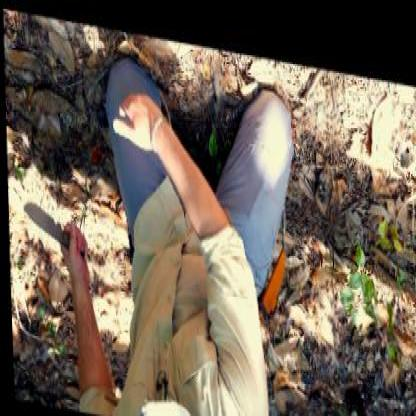knife: (17, 193, 90, 264)
